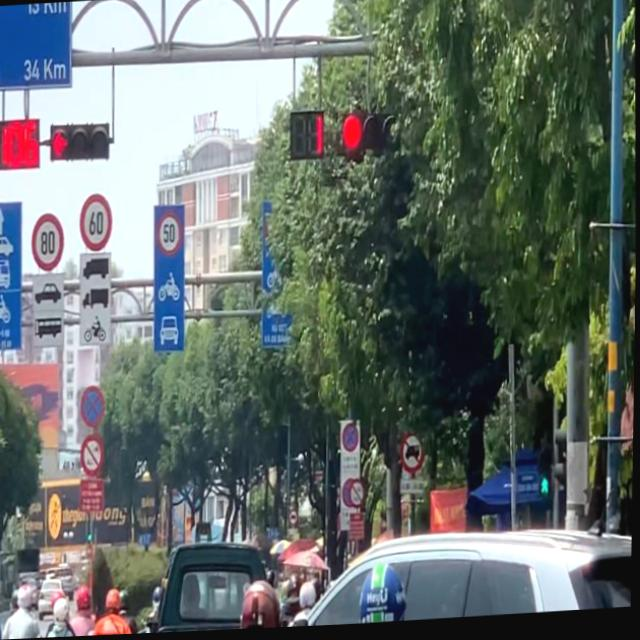Cam dung xe va do xe: (80, 384, 106, 432), (342, 424, 361, 457)
Toc do toi da cho phep: (79, 195, 120, 253), (31, 210, 68, 271), (157, 210, 182, 257)
